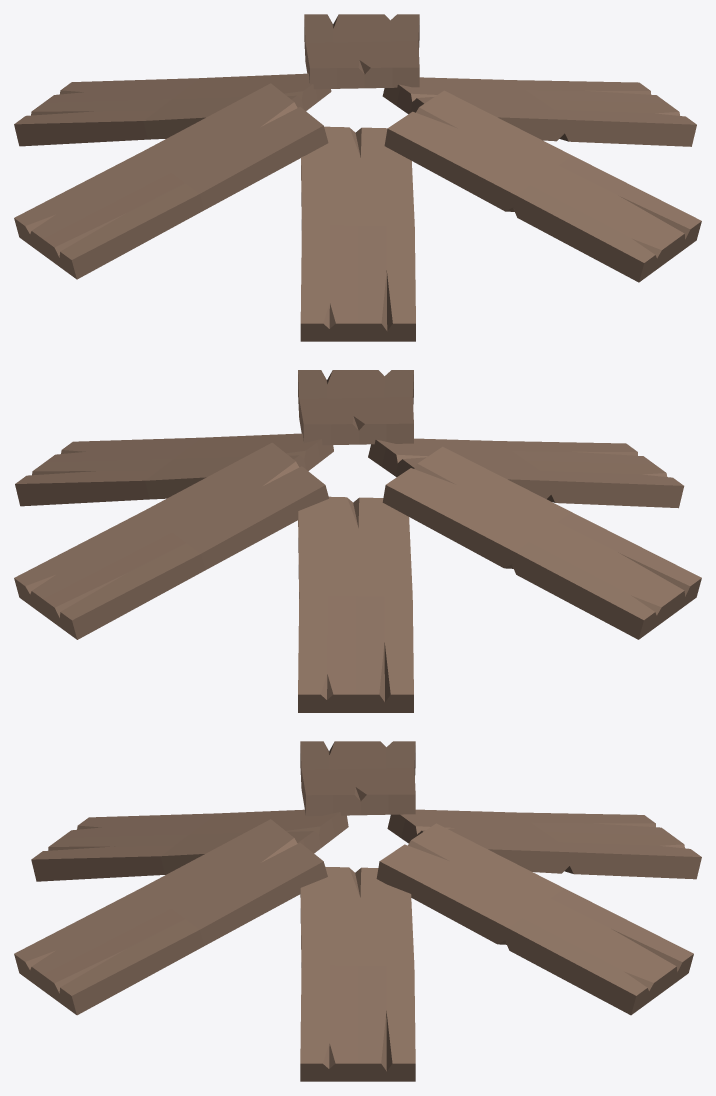
Rendered from bonfire.fbx.
3 renders of one model, top to bottom at view 1: azimuth 30°, elevation 25°; view 2: azimuth 150°, elevation 25°; view 3: azimuth 270°, elevation 25°, orthographic.
Parts seen in each view (by area): view 1: bonfire; view 2: bonfire; view 3: bonfire.
Part boxes in pixels (x1=…): bonfire: x1=14, y1=14, x2=701, y2=341; bonfire: x1=14, y1=370, x2=701, y2=712; bonfire: x1=14, y1=741, x2=701, y2=1081.
Size of the model in its own units: 15.29 by 2.59 by 14.57.
